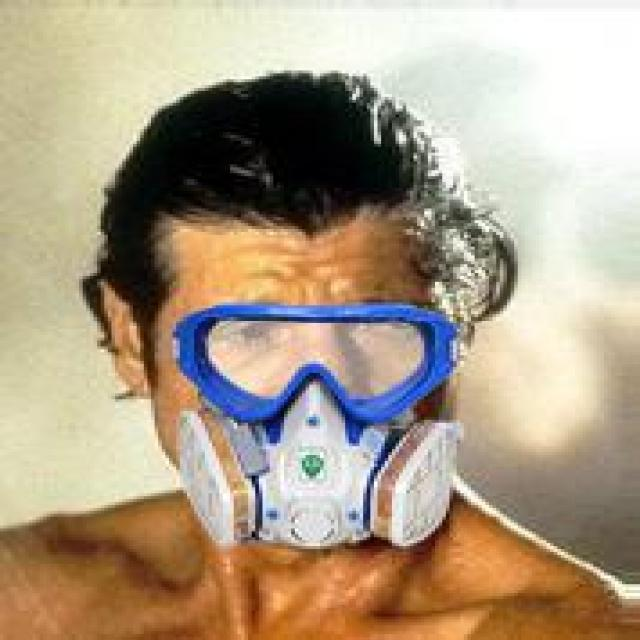mask: (54, 18, 532, 549)
